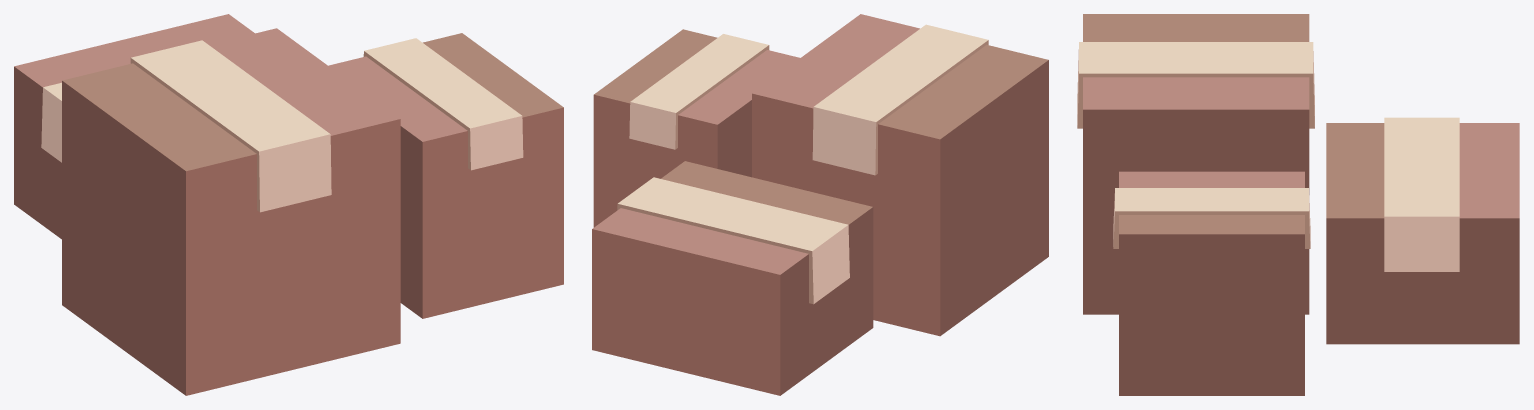
File: office-boxes-2.glb
3 views of the same model, side by side, from view 1: azimuth 30°, elevation 25°; view 2: azimuth 150°, elevation 25°; view 3: azimuth 270°, elevation 25° (orthographic). The views are drawn at different scales.
Visible parts, largest first — view 1: Cube.008, Cube.006, Cube.007; view 2: Cube.008, Cube.007, Cube.006; view 3: Cube.007, Cube.006, Cube.008.
Boxes of the visible parts, left/top/right/bottom form: Cube.008: left=62, top=28, right=400, bottom=395; Cube.006: left=328, top=33, right=563, bottom=318; Cube.007: left=14, top=14, right=254, bottom=239; Cube.008: left=752, top=14, right=1048, bottom=336; Cube.007: left=592, top=161, right=873, bottom=395; Cube.006: left=593, top=29, right=799, bottom=227; Cube.007: left=1326, top=117, right=1519, bottom=344; Cube.006: left=1113, top=171, right=1310, bottom=395; Cube.008: left=1077, top=14, right=1314, bottom=314.
Size of the model in its own units: 1.65 by 0.9057 by 1.74.
3 materials, 3 textured.
